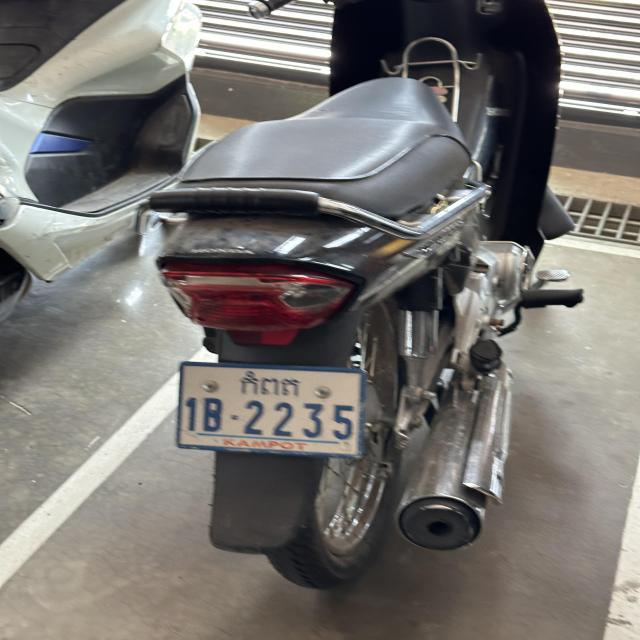Kampot: (233, 369, 308, 402)
